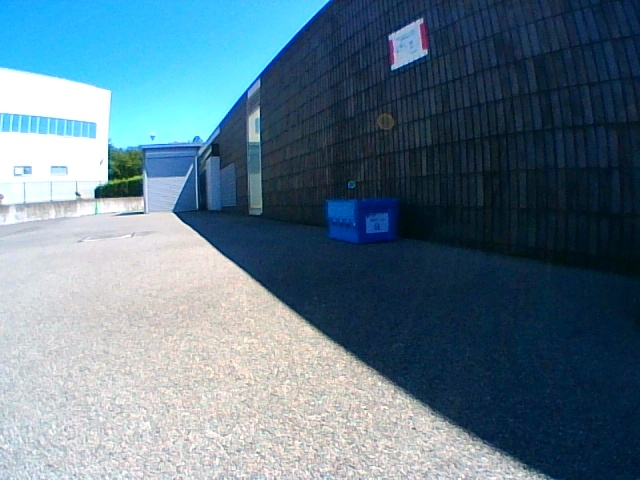blue_box: (326, 198, 398, 242)
tag: (367, 215, 386, 232)
